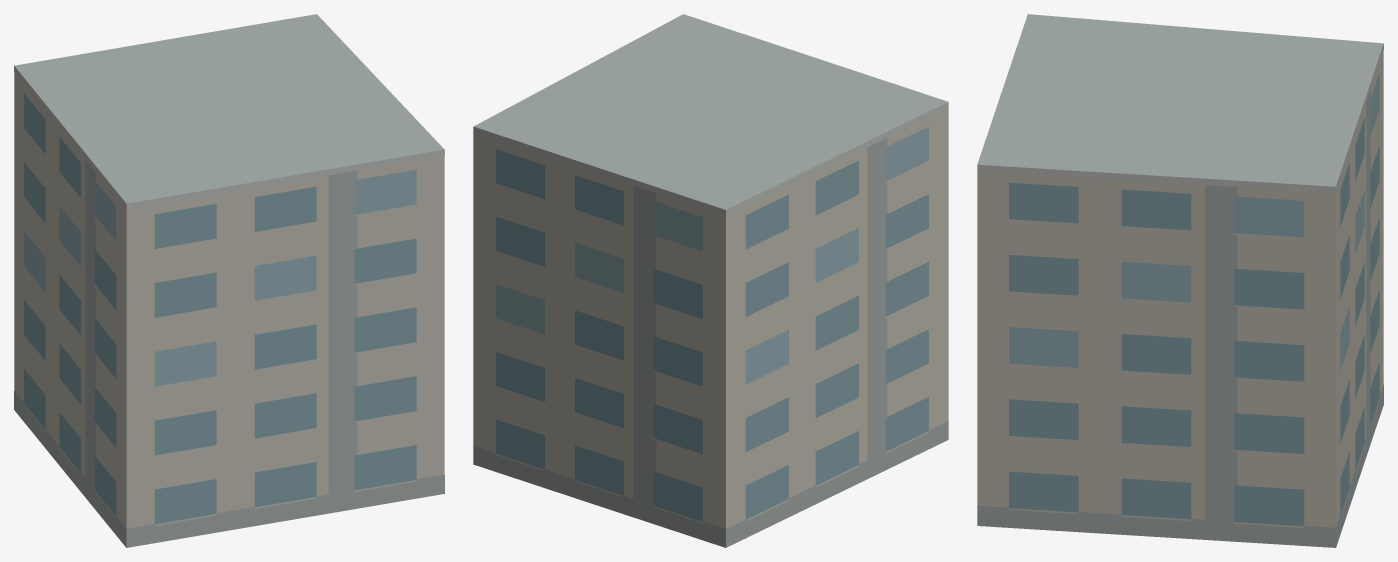
Rendered from survey-upis-32852619.glb.
3 views of the same model, side by side, from view 1: azimuth 30°, elevation 25°; view 2: azimuth 150°, elevation 25°; view 3: azimuth 270°, elevation 25° (orthographic). The views are drawn at different scales.
Visible parts, largest first — view 1: survey-upis-32852619.tmp; view 2: survey-upis-32852619.tmp; view 3: survey-upis-32852619.tmp.
Boxes of the visible parts, x1,y1,x2,y2 form: survey-upis-32852619.tmp: [14, 14, 444, 547]; survey-upis-32852619.tmp: [473, 14, 948, 547]; survey-upis-32852619.tmp: [977, 14, 1383, 547].
Size of the model in its own units: 13.85 by 13.5 by 13.78.
